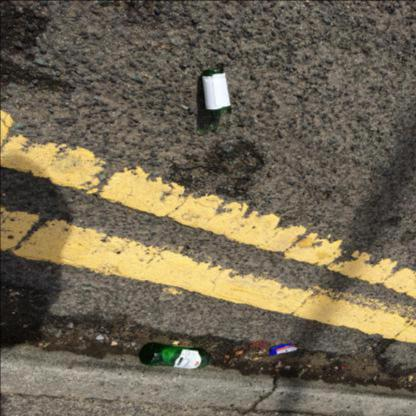Bottle cap: (138, 342, 211, 369), (202, 68, 232, 117)
Plastic bag - wrapper: (270, 343, 298, 356)
